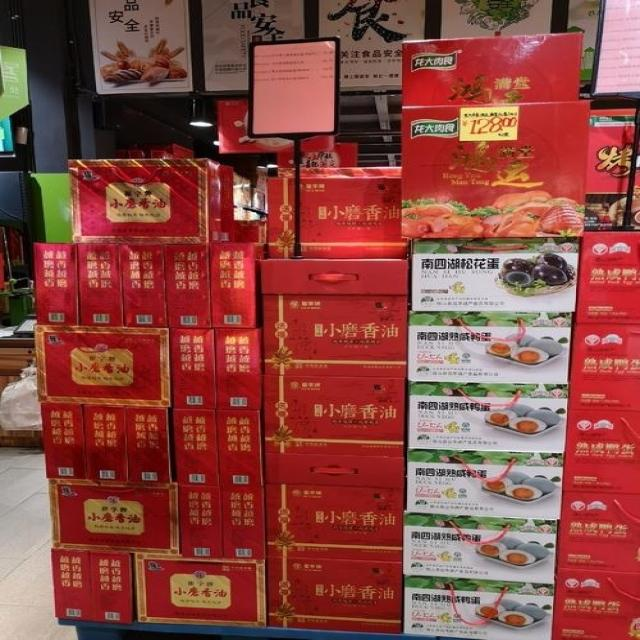box: (401, 101, 590, 239), (68, 158, 234, 244), (402, 32, 582, 105), (411, 237, 580, 312), (264, 295, 408, 377), (408, 311, 572, 383), (262, 375, 405, 457), (267, 177, 409, 259), (408, 381, 569, 453), (34, 324, 170, 407), (403, 512, 557, 584), (406, 449, 564, 519), (265, 484, 403, 562), (268, 556, 402, 634), (48, 478, 179, 555), (135, 553, 266, 629), (404, 575, 555, 639), (557, 490, 639, 573), (585, 109, 639, 232), (563, 409, 639, 494), (552, 567, 639, 639), (569, 323, 639, 411), (575, 232, 639, 323), (260, 258, 409, 295), (265, 452, 404, 488), (209, 242, 267, 328), (214, 328, 264, 409), (120, 244, 168, 328), (164, 244, 211, 328), (78, 243, 124, 327), (170, 328, 217, 409), (34, 243, 78, 326), (216, 410, 264, 486), (219, 485, 267, 559), (125, 406, 171, 483), (173, 409, 218, 486), (83, 404, 127, 482), (40, 402, 85, 478), (178, 483, 222, 558), (52, 548, 94, 622), (90, 551, 132, 623)
